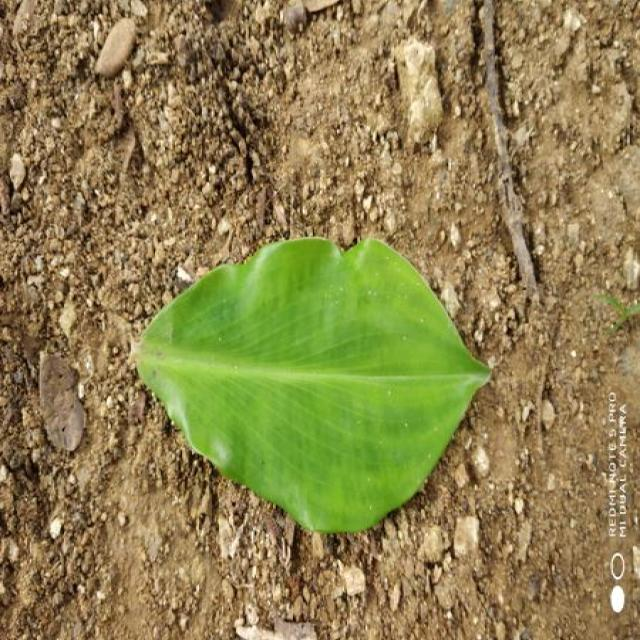insulin: (137, 238, 490, 532)
